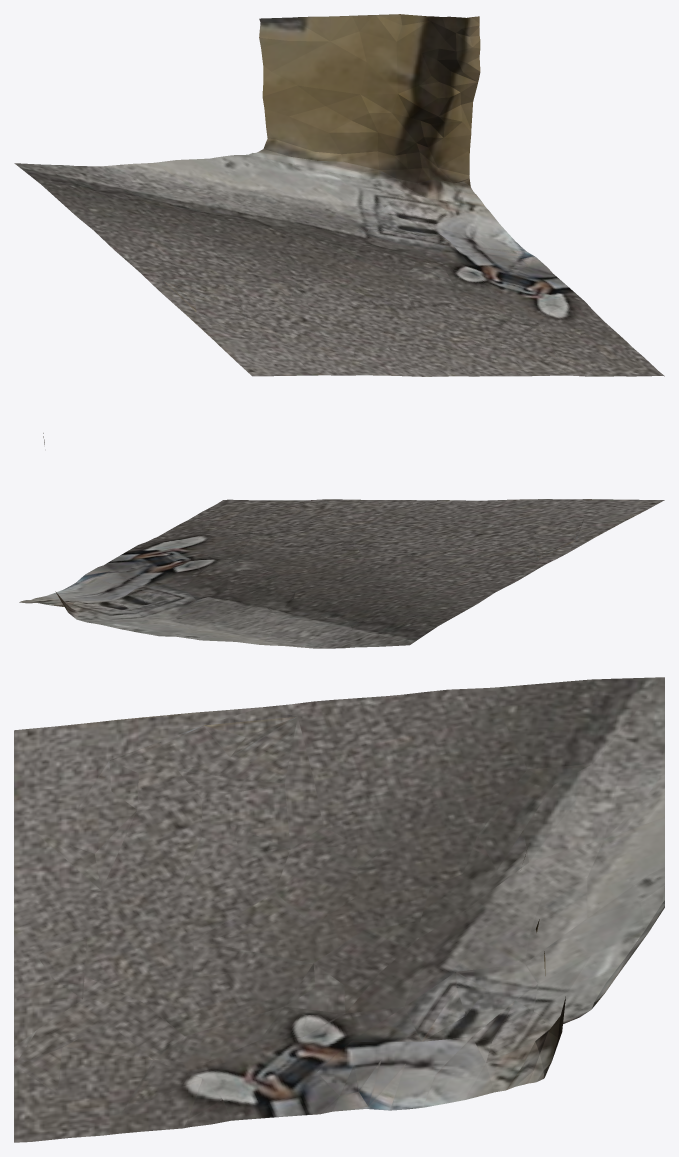
3 views of the same model, one above another, from view 1: azimuth 30°, elevation 25°; view 2: azimuth 150°, elevation 25°; view 3: azimuth 270°, elevation 25° (orthographic). The views are drawn at different scales.
Size of the model in its own units: 1.67 by 0.869 by 1.67.
Materials: 3 (3 with a texture image).
